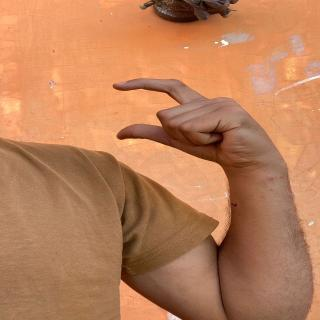DELL: (100, 66, 295, 177)
